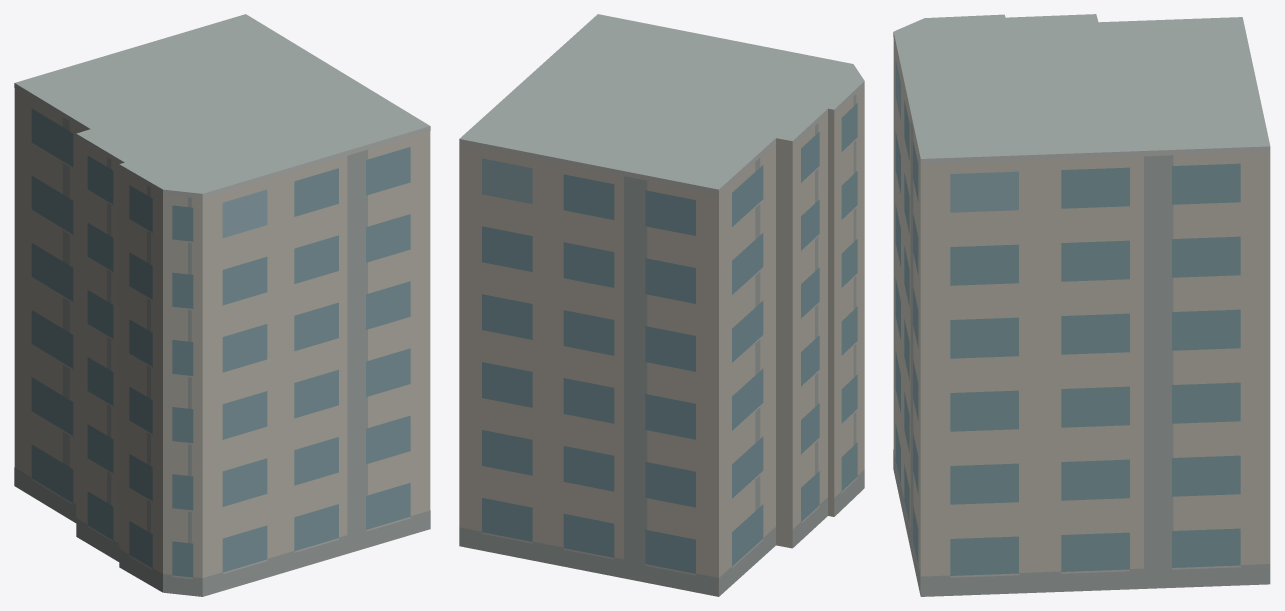
File: survey-upis-32884520.glb
3 views of the same model, side by side, from view 1: azimuth 30°, elevation 25°; view 2: azimuth 150°, elevation 25°; view 3: azimuth 270°, elevation 25° (orthographic). The views are drawn at different scales.
Visible parts, largest first — view 1: survey-upis-32884520.tmp; view 2: survey-upis-32884520.tmp; view 3: survey-upis-32884520.tmp.
Boxes of the visible parts, bbox=[...] form: survey-upis-32884520.tmp: bbox=[14, 14, 430, 596]; survey-upis-32884520.tmp: bbox=[459, 14, 864, 596]; survey-upis-32884520.tmp: bbox=[893, 14, 1270, 596].
Bounding box in the file's own units: 14 × 19.7 × 15.38.
